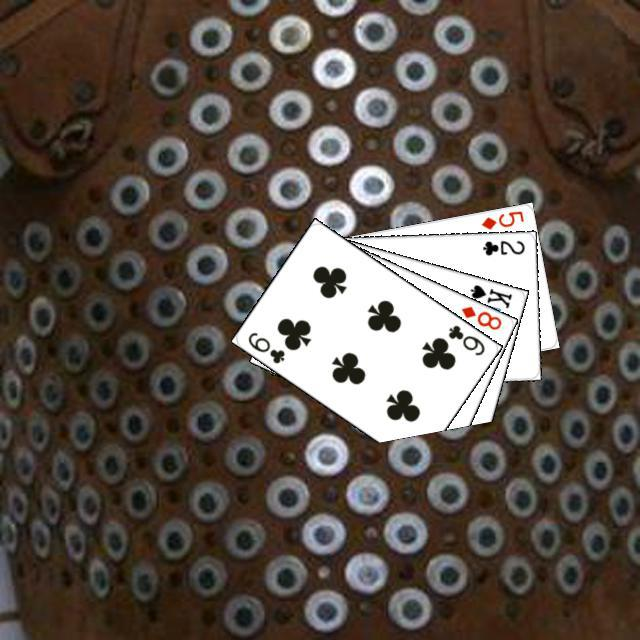2c: (478, 235, 526, 257)
5d: (476, 206, 525, 231)
6c: (443, 320, 487, 358), (243, 327, 287, 365)
8d: (456, 301, 503, 332)
Ks: (465, 280, 514, 310)
